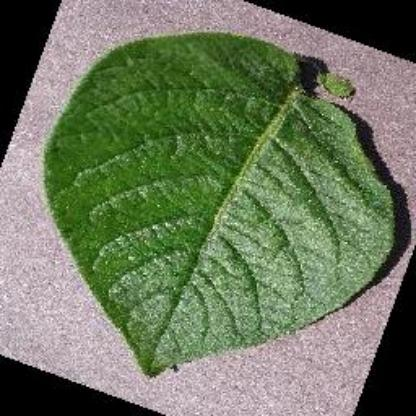Healthy-plant: (43, 27, 409, 376)
